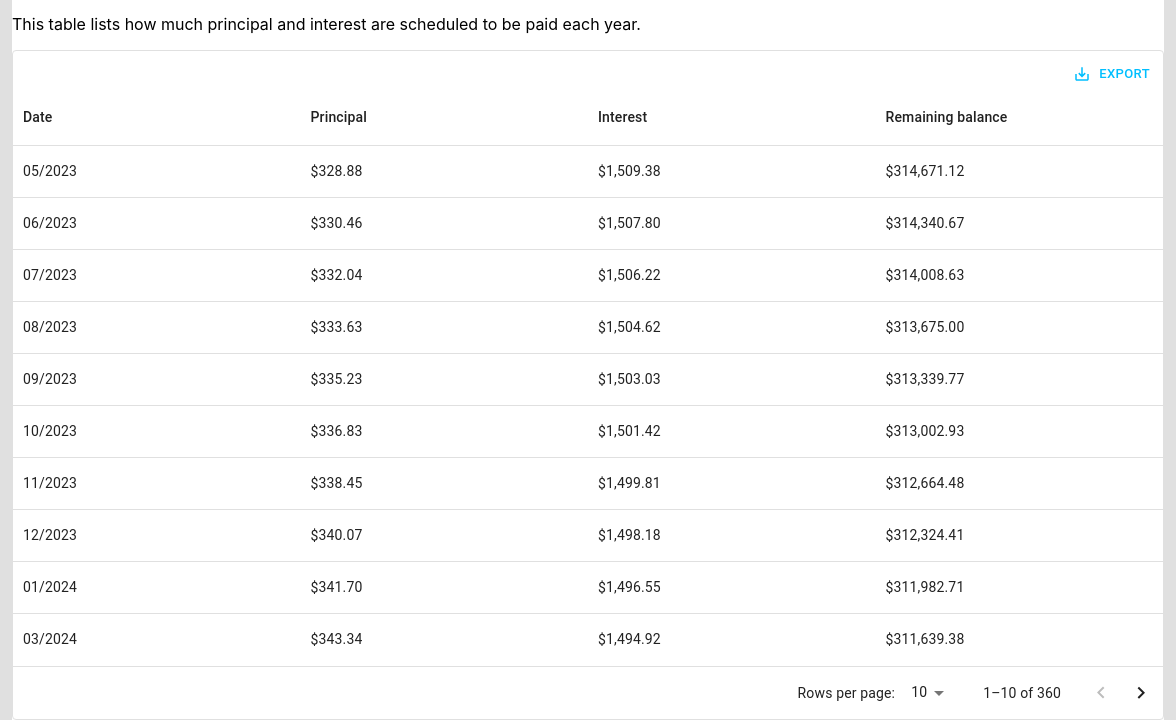
Scenario: <AmortizationTable /> › renders next page when Go to next page button is clicked
(page scrolled)
Expected: the text "1–10 of 360" is shown, x1=983 y1=683 x2=1061 y2=703
Expected: the text "11–20 of 360" is not shown
Click the button named "Go to next page".
click(1141, 693)  # box x1=1121 y1=673 x2=1161 y2=713
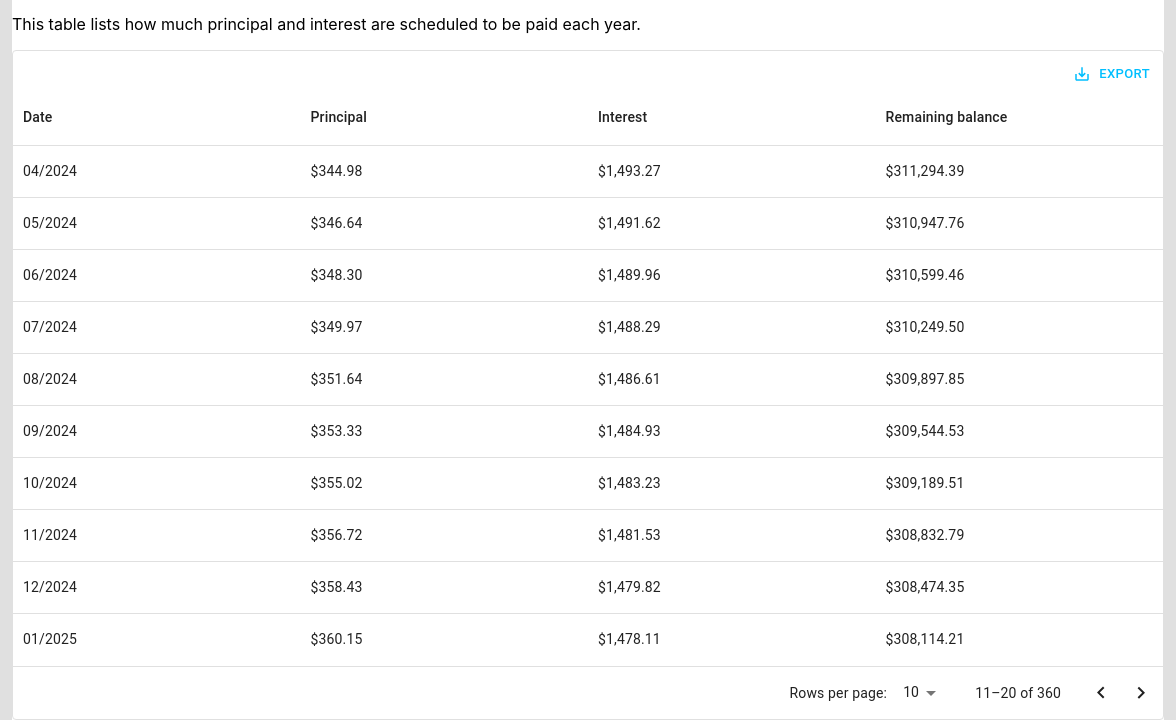
Expected: the text "1–10 of 360" is gone
Expected: the text "11–20 of 360" is shown, x1=975 y1=683 x2=1061 y2=703
